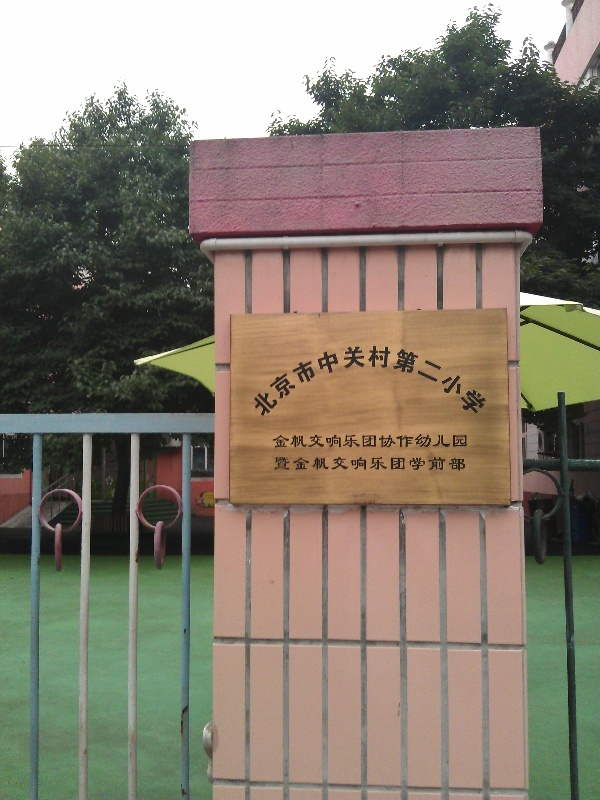text: (257, 345, 272, 416), (273, 345, 288, 416), (289, 345, 304, 416), (305, 345, 320, 416), (321, 345, 336, 416), (337, 345, 352, 416), (353, 345, 368, 416), (369, 345, 384, 416), (385, 345, 400, 416), (401, 345, 416, 416), (417, 345, 432, 416), (433, 345, 448, 416), (449, 345, 464, 416), (465, 345, 480, 416), (481, 345, 487, 416), (289, 456, 304, 472), (305, 456, 320, 472), (321, 456, 336, 472), (337, 456, 352, 472), (353, 456, 368, 472), (369, 456, 384, 472), (385, 456, 400, 472), (401, 456, 416, 472), (417, 456, 432, 472), (433, 456, 448, 472), (449, 456, 464, 472), (273, 434, 288, 449), (289, 434, 304, 449), (305, 434, 320, 449), (321, 434, 336, 449), (337, 434, 352, 449), (353, 434, 368, 449), (369, 434, 384, 449), (385, 434, 400, 449), (401, 434, 416, 449), (417, 434, 432, 449), (433, 434, 448, 449), (449, 434, 464, 449), (274, 456, 288, 472), (253, 345, 256, 416), (465, 434, 468, 449), (465, 456, 466, 472), (271, 434, 272, 449)
